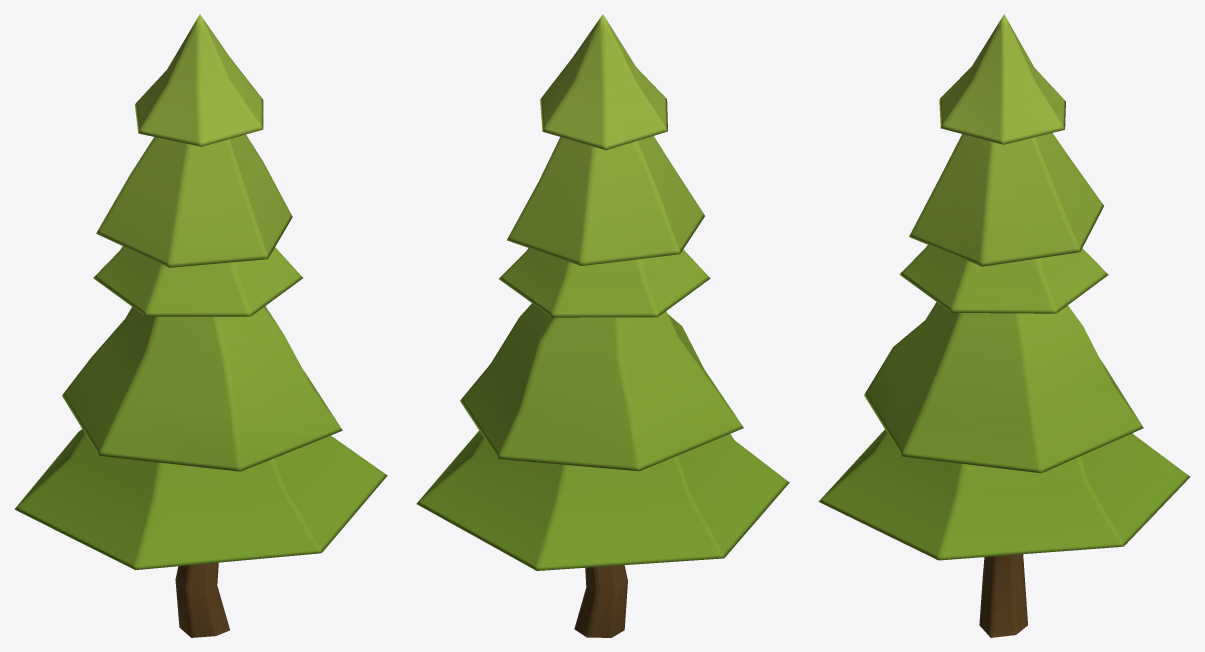
The model's file is Tree02.fbx.
3 renders of one model, left to right at view 1: azimuth 30°, elevation 25°; view 2: azimuth 150°, elevation 25°; view 3: azimuth 270°, elevation 25°, orthographic.
Visible parts, largest first — view 1: Tree2; view 2: Tree2; view 3: Tree2.
Boxes of the visible parts, box(x1,y1,x2,y2) form: Tree2: box(14, 14, 387, 637); Tree2: box(416, 14, 789, 637); Tree2: box(818, 14, 1189, 637).
Bounding box in the file's own units: 527 × 1008 × 555.
